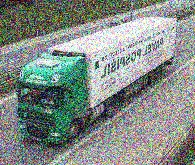truck: (15, 17, 177, 146)
